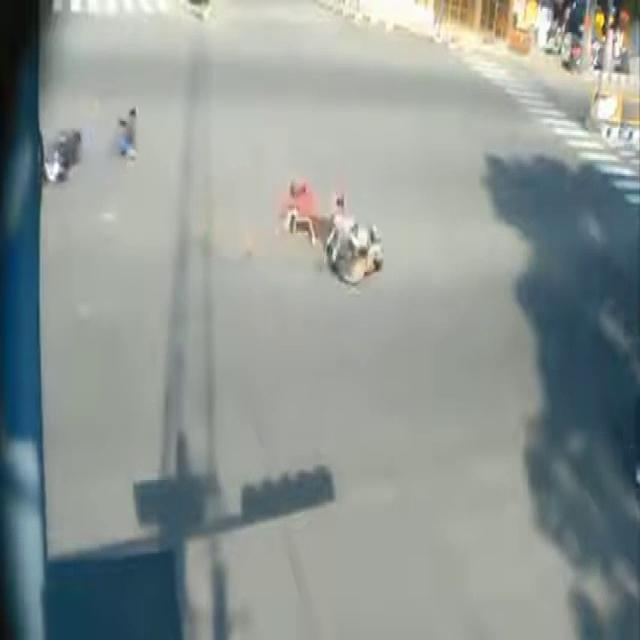accident: (269, 146, 391, 308), (38, 79, 166, 202)
